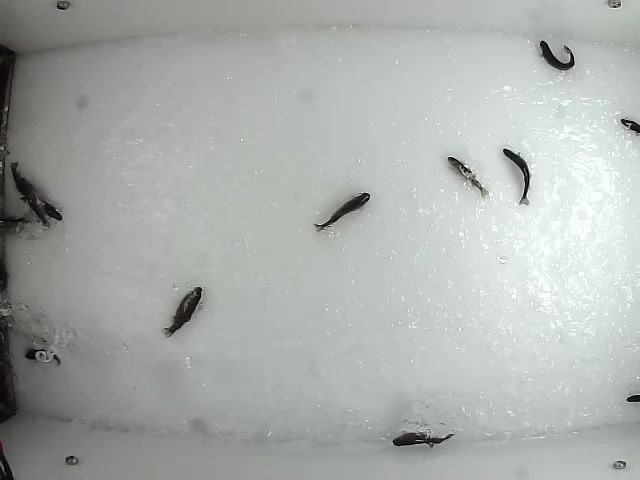fish: (161, 280, 204, 340), (312, 191, 372, 233), (500, 146, 534, 209), (15, 177, 52, 231), (447, 156, 491, 199), (390, 427, 456, 450), (538, 39, 575, 73), (9, 158, 33, 196), (23, 346, 63, 368), (30, 196, 62, 221)
